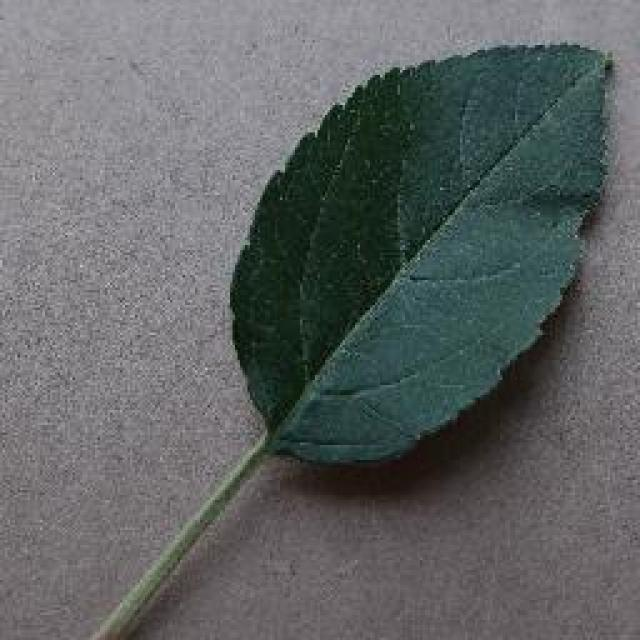apple healthy: (225, 38, 620, 470)
